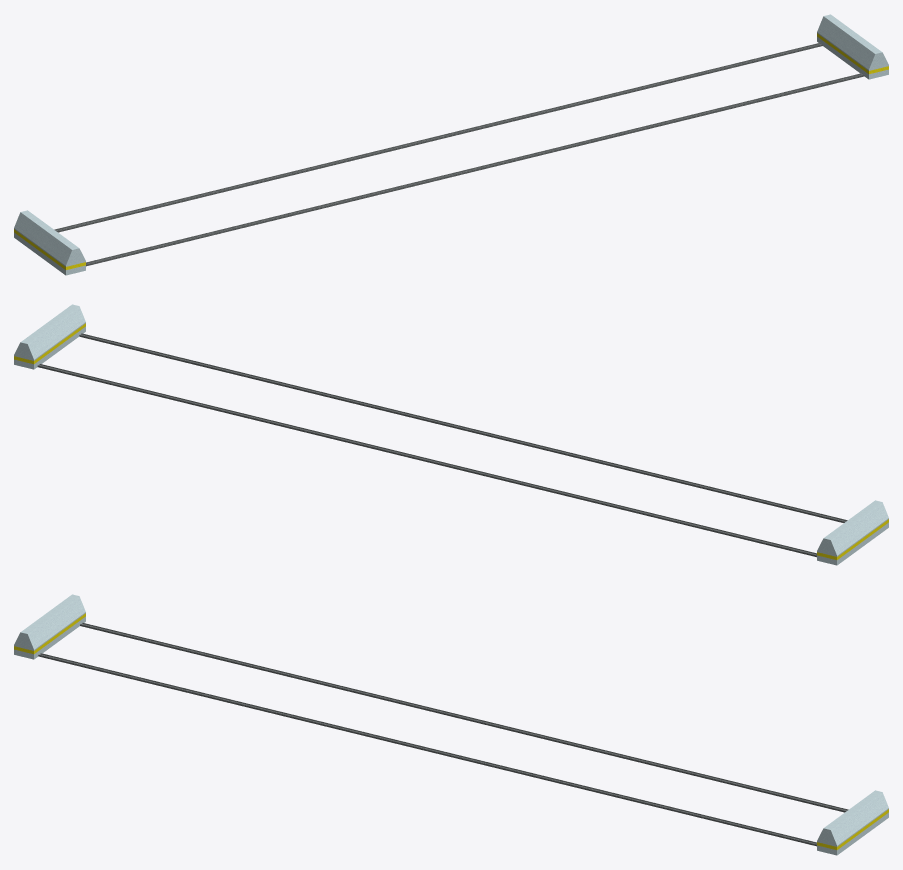
File: CRAIN RAIL PATH.fbx
3 views of the same model, one above another, from view 1: azimuth 30°, elevation 25°; view 2: azimuth 150°, elevation 25°; view 3: azimuth 330°, elevation 25° (orthographic).
Parts seen in each view (by area): view 1: CRAIN_RAIL_PATH_2, CRAIN_RAIL_PATH, CRAIN_RAIL_PATH_1; view 2: CRAIN_RAIL_PATH_2, CRAIN_RAIL_PATH, CRAIN_RAIL_PATH_1; view 3: CRAIN_RAIL_PATH_2, CRAIN_RAIL_PATH_1, CRAIN_RAIL_PATH.
Part boxes in pixels (x1,y1,x2,y2): CRAIN_RAIL_PATH_2: (54,42,864,266); CRAIN_RAIL_PATH: (14,210,85,275); CRAIN_RAIL_PATH_1: (817,14,888,79); CRAIN_RAIL_PATH_2: (37,333,847,557); CRAIN_RAIL_PATH: (817,500,888,565); CRAIN_RAIL_PATH_1: (14,304,85,369); CRAIN_RAIL_PATH_2: (38,622,848,846); CRAIN_RAIL_PATH_1: (817,790,888,855); CRAIN_RAIL_PATH: (14,594,85,659).
Bounding box in the file's own units: 8955 × 249 × 977.
